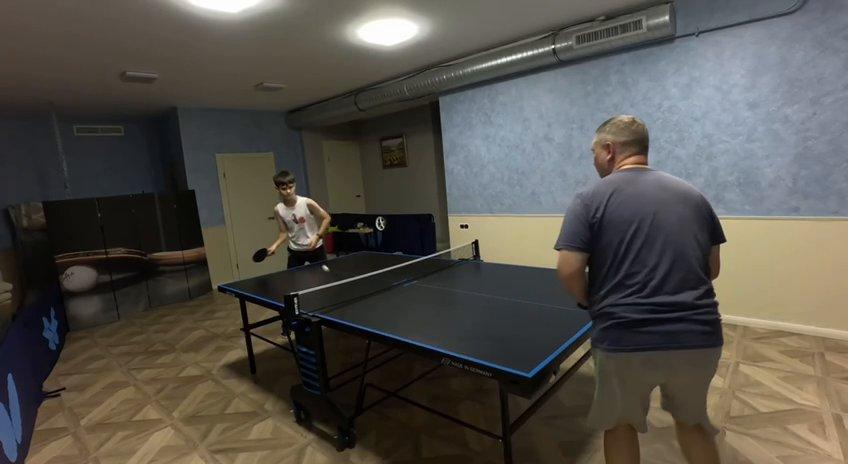Ball: (321, 264, 333, 276)
Net: (283, 240, 481, 321)
Player1: (253, 171, 330, 268)
Player2: (555, 116, 725, 463)
Table: (222, 253, 589, 377)
